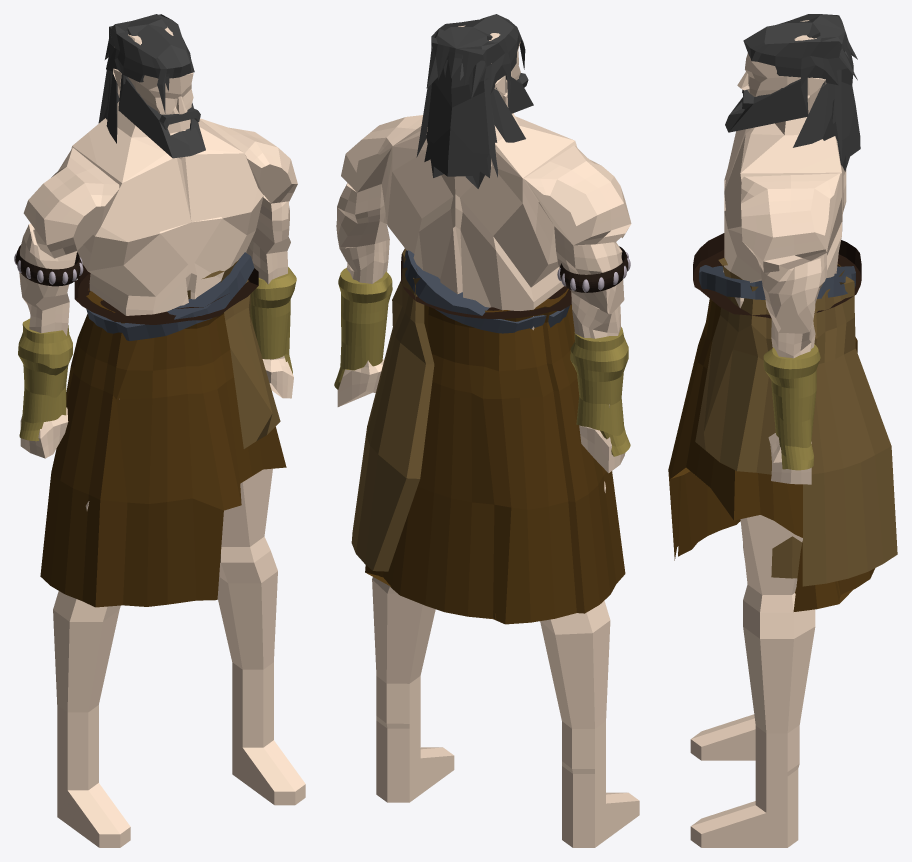
The model's file is mamadisimoblend2.fbx.
The picture shows the model from 3 angles, left to right: view 1: azimuth 30°, elevation 25°; view 2: azimuth 150°, elevation 25°; view 3: azimuth 270°, elevation 25°; orthographic projection. The views are drawn at different scales.
Visible parts, largest first — view 1: Atlas; view 2: Atlas; view 3: Atlas.
Part boxes in pixels (x1,y1,x2,y2): Atlas: (14, 14, 305, 847); Atlas: (334, 14, 639, 847); Atlas: (668, 14, 897, 847).
Size of the model in its own units: 635 by 1693 by 455.
